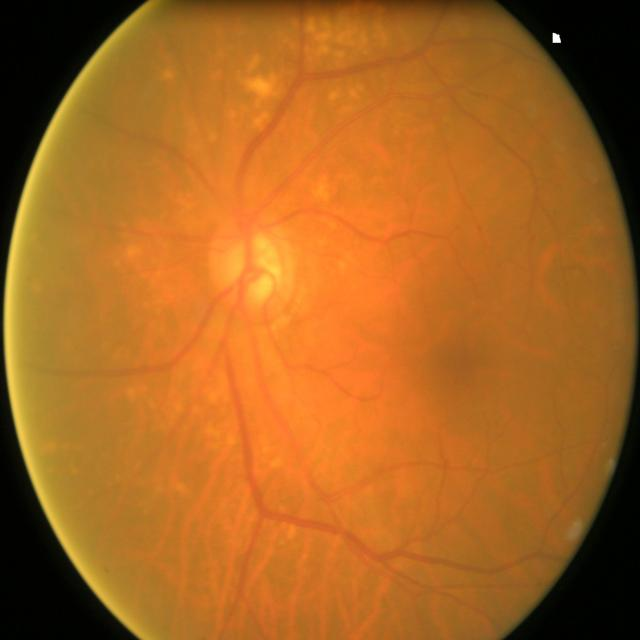OC: (227, 234, 280, 304)
OD: (208, 212, 296, 325)
